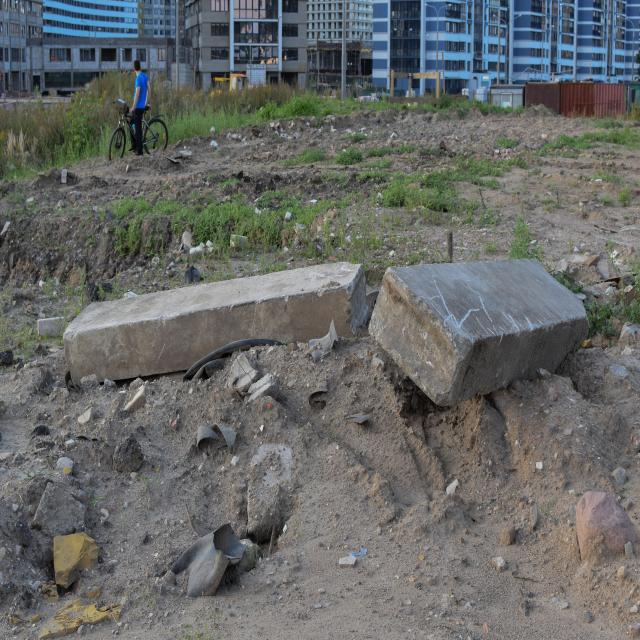entulho: (61, 258, 370, 393), (368, 254, 599, 408), (57, 290, 285, 392), (162, 504, 250, 606), (194, 421, 241, 455)
